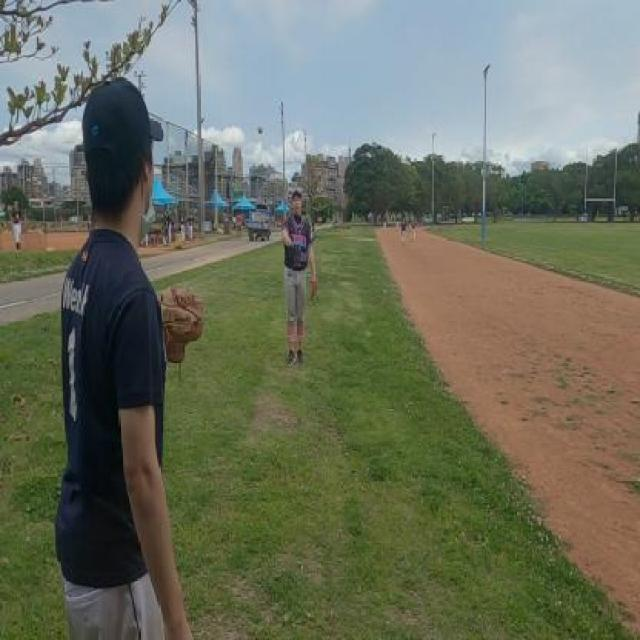baseball: (258, 126, 262, 134)
